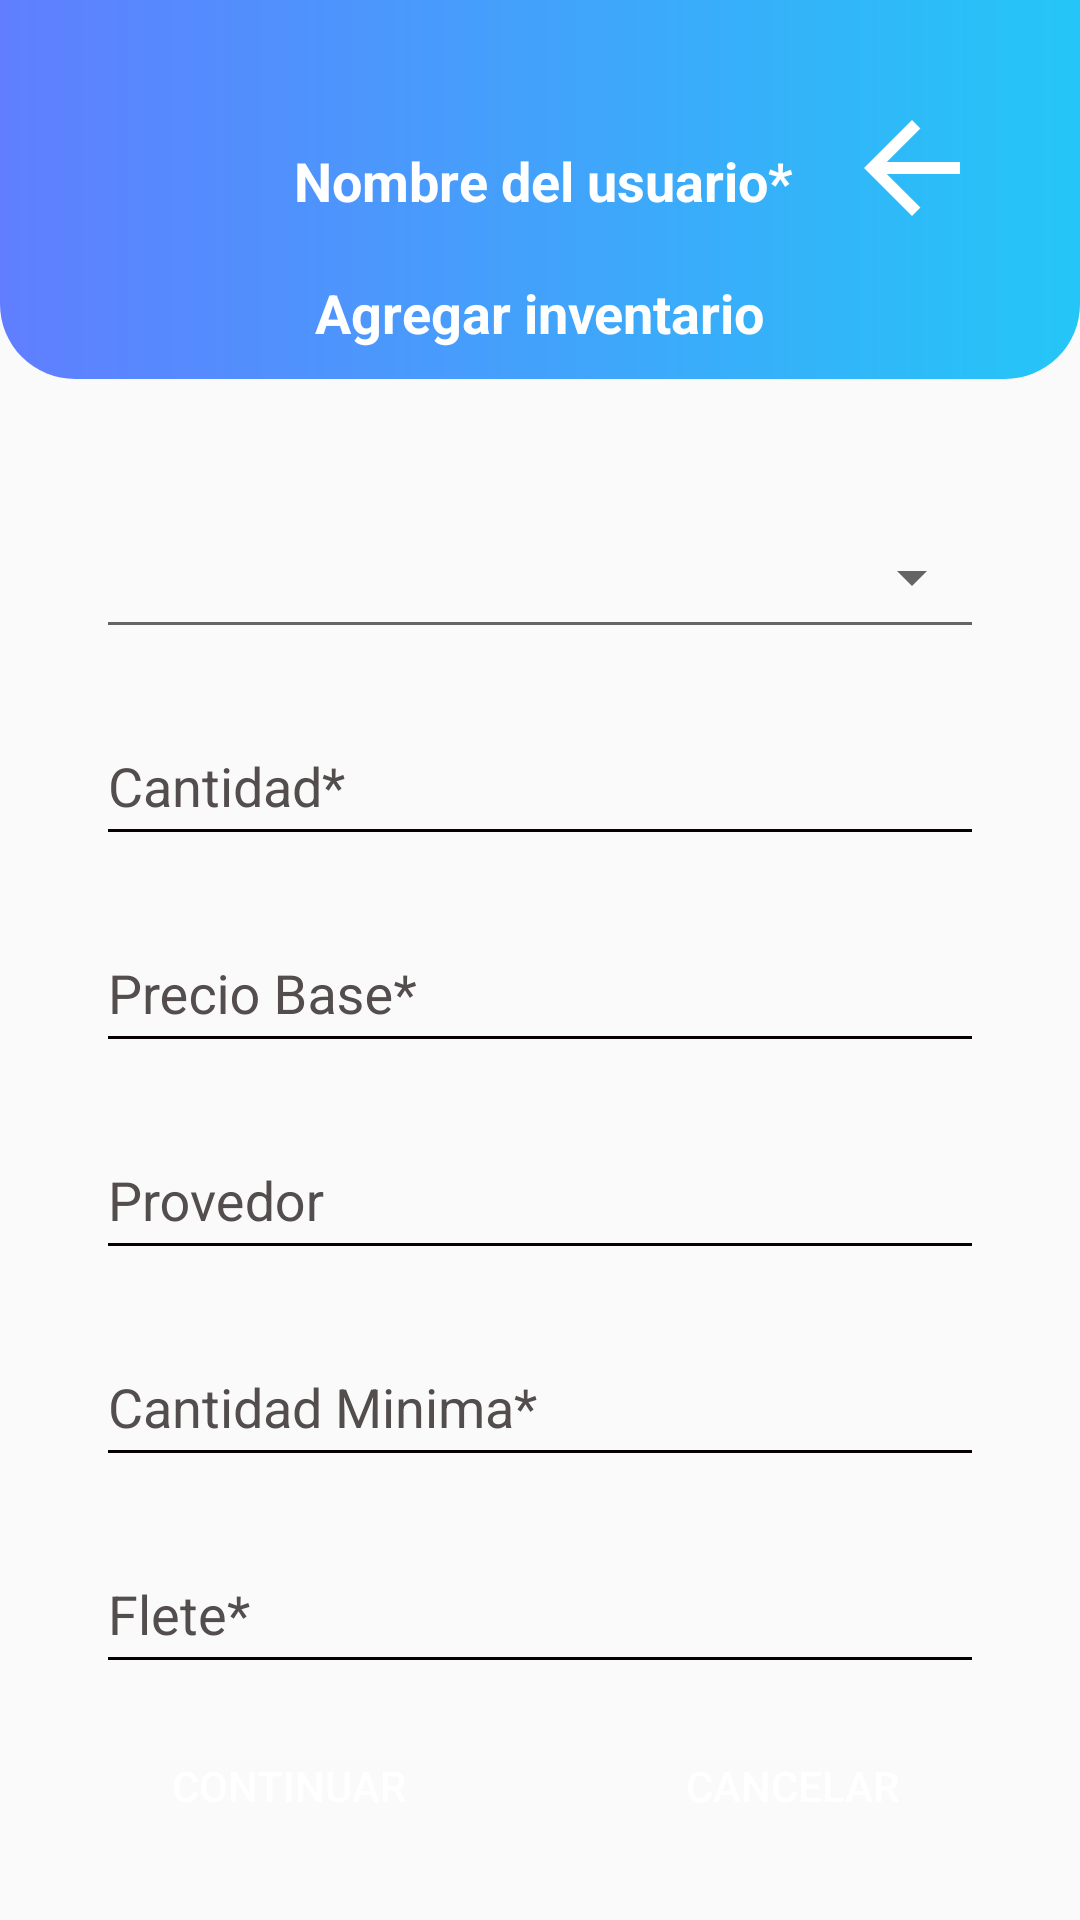

Where icons sit on this 1080px x 1920px app screen, as BBox(x1, y1, x2, y2):
Boton que al presionar cuelve a la pantalla anterior: BBox(864, 120, 960, 216)
